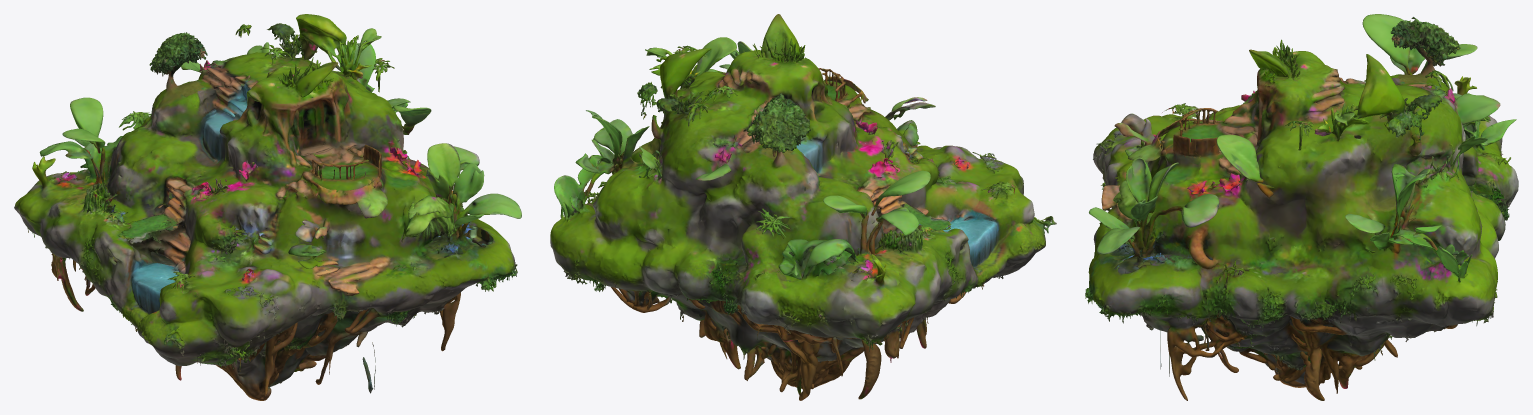
File: Meshy_AI__garden_floating_ga_1017060003_texture.fbx
3 renders of one model, left to right at view 1: azimuth 30°, elevation 25°; view 2: azimuth 150°, elevation 25°; view 3: azimuth 270°, elevation 25°, orthographic. The views are drawn at different scales.
Visible parts, largest first — view 1: Mesh_0; view 2: Mesh_0; view 3: Mesh_0.
Boxes of the visible parts, <box> form: Mesh_0: <box>14,14,521,400</box>; Mesh_0: <box>550,14,1056,400</box>; Mesh_0: <box>1085,14,1518,400</box>.
Bounding box in the file's own units: 199 × 183 × 195.
1 material, 1 textured.
